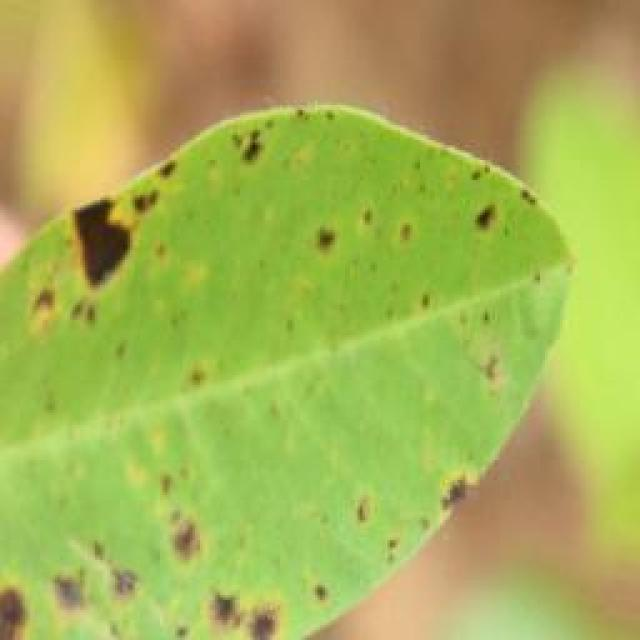Yellowish: (11, 111, 540, 640)
